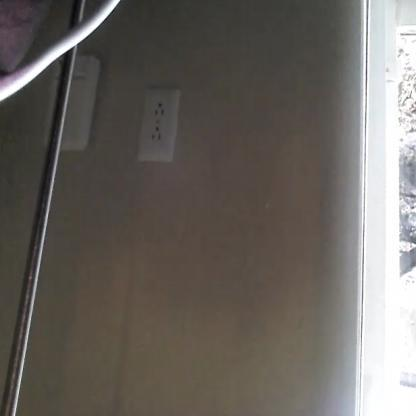OUTLET: (134, 86, 182, 164)
